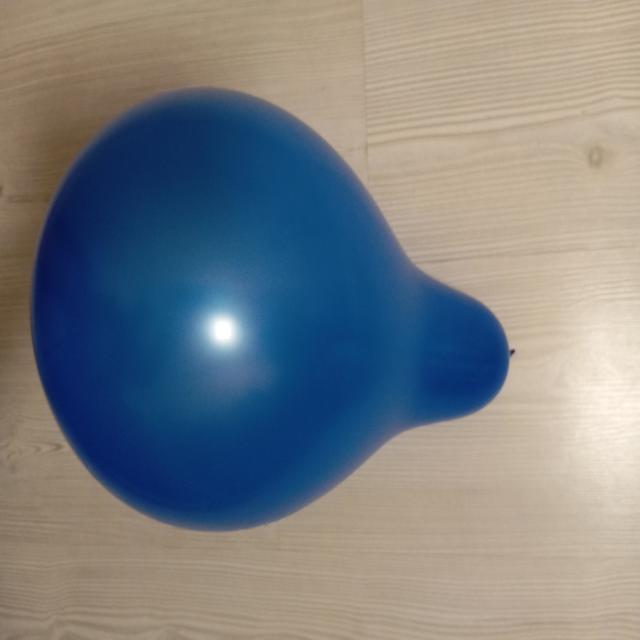balloon: (31, 88, 509, 530)
